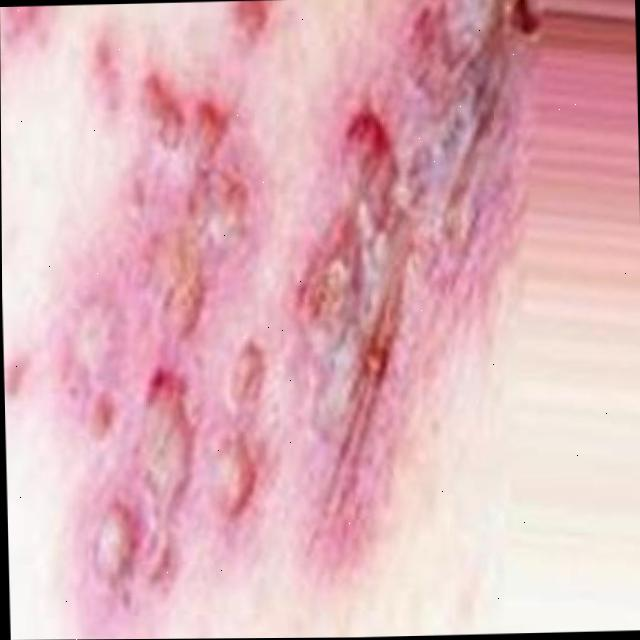Shingles: (0, 0, 518, 585)
